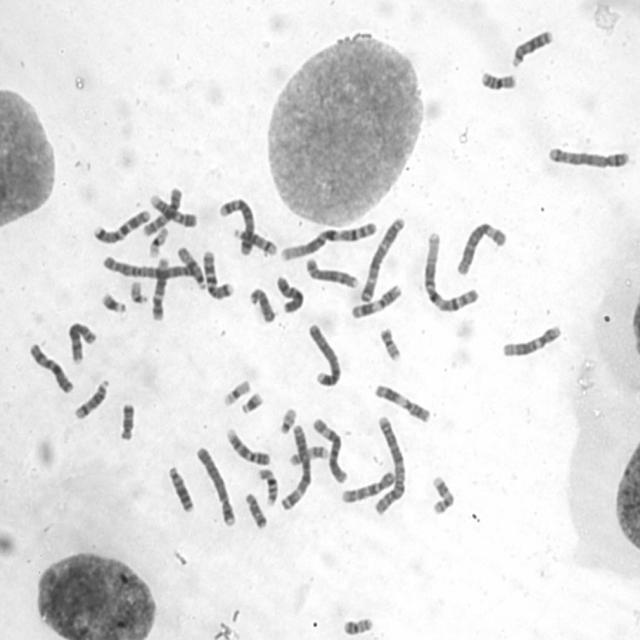A1: (423, 233, 482, 314), (280, 221, 378, 264)
A2: (372, 413, 408, 518), (101, 254, 199, 280)
A3: (358, 217, 406, 306), (279, 422, 312, 513)
B4: (196, 446, 238, 528), (306, 322, 344, 388)
B5: (544, 143, 633, 173), (217, 198, 256, 256)
C10: (141, 186, 184, 238), (340, 471, 396, 505)
C11: (373, 382, 433, 423), (350, 284, 402, 320)
C12: (501, 324, 565, 360), (151, 254, 172, 322)
C6: (454, 222, 508, 276), (311, 416, 349, 484)
C7: (91, 208, 151, 246), (201, 249, 234, 301)
C8: (306, 257, 359, 290), (66, 319, 100, 364)
C9: (226, 426, 271, 466), (150, 194, 200, 228)
D13: (511, 29, 556, 70), (167, 464, 194, 514)
D14: (73, 378, 109, 421), (232, 226, 278, 257)
D15: (176, 246, 208, 291), (248, 286, 275, 326)
E16: (477, 70, 520, 94), (257, 467, 279, 509)
E17: (428, 474, 458, 515), (286, 445, 331, 469)
E18: (243, 493, 269, 529), (118, 402, 135, 443)
F19: (222, 377, 251, 408), (146, 226, 170, 260)
F20: (377, 328, 404, 363), (342, 616, 375, 636)
G21: (101, 292, 128, 316), (240, 391, 264, 417)
G22: (279, 406, 298, 434), (130, 281, 149, 305)
X: (28, 340, 74, 396), (274, 276, 306, 316)
